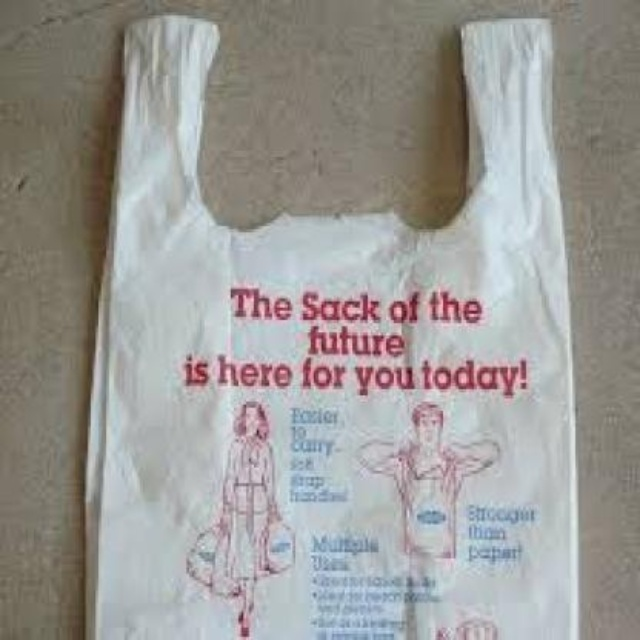trash: (89, 15, 577, 638)
